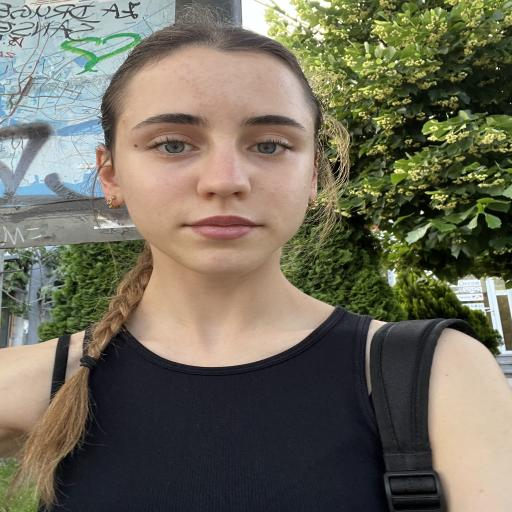masa: (64, 11, 449, 318)
